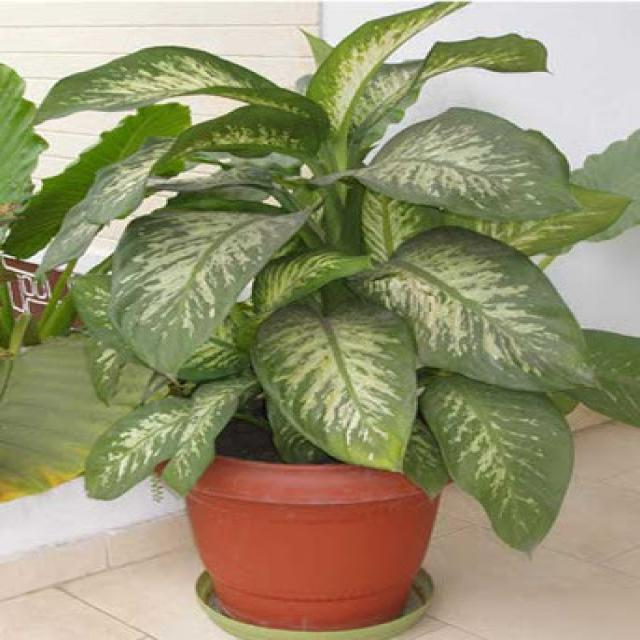dieffenbachia-oVHx: (31, 0, 640, 562)
